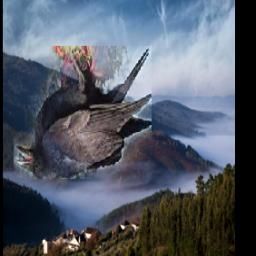Crow: (14, 46, 152, 179)
